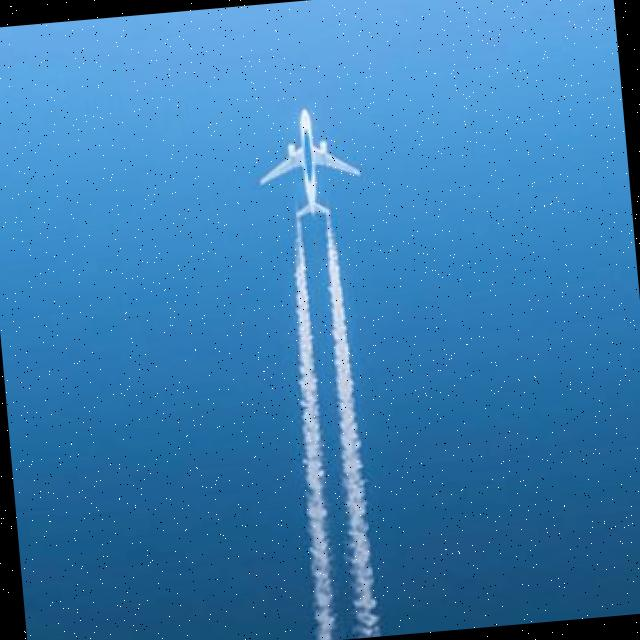Ct: (235, 94, 415, 640)
